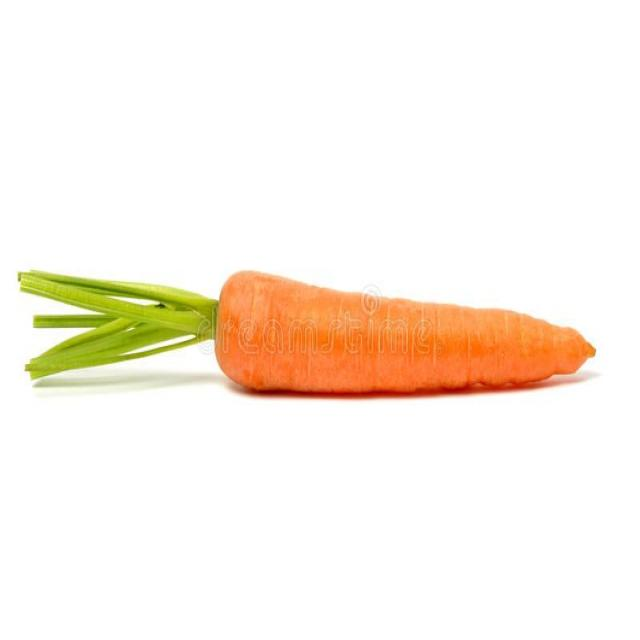Carrot: (15, 266, 602, 412)
